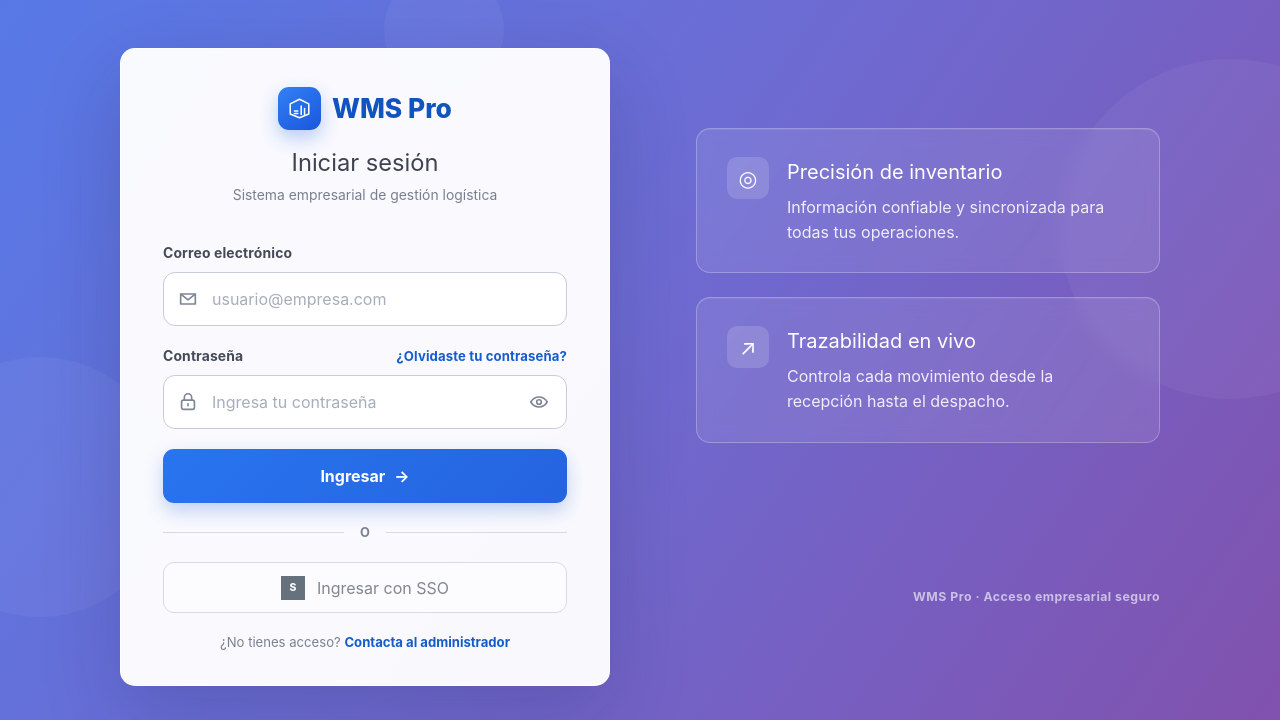
Test case: Login › shows a generic error when credentials are rejected
Type "persona@empresa.com" into the field labelled "Correo electrónico" at (365, 299), box [163,272,567,326]
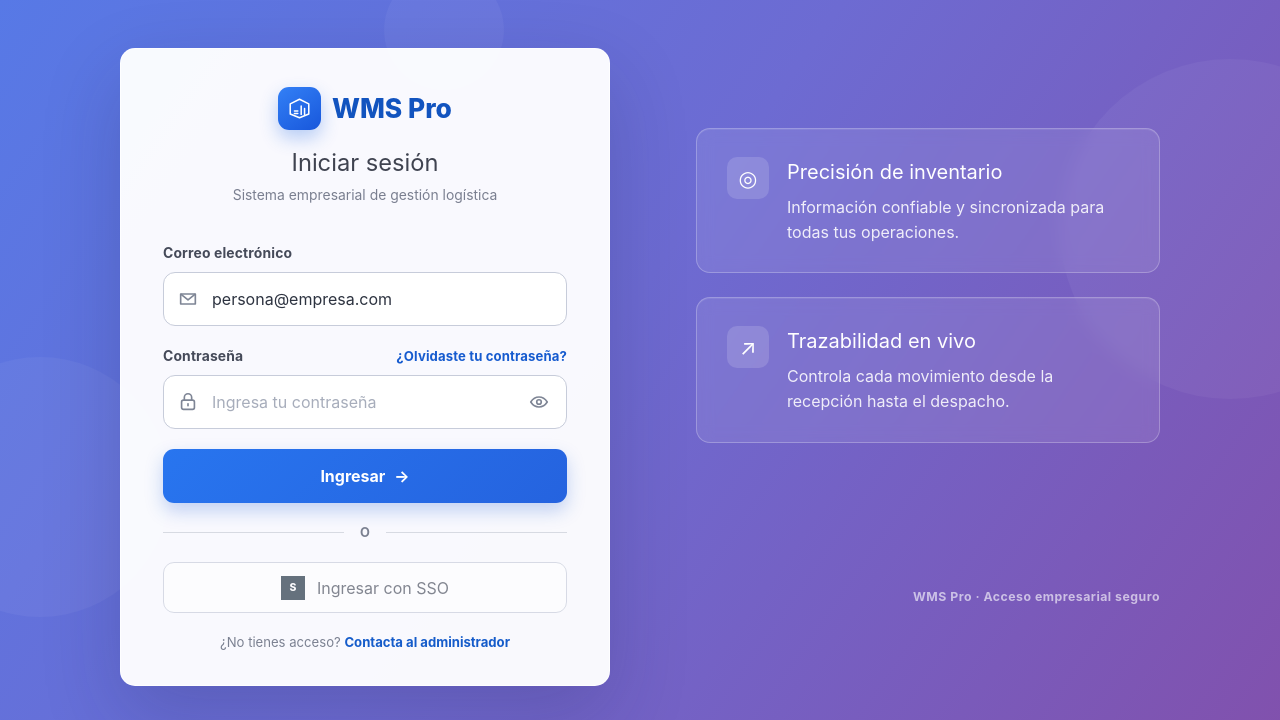
Type "incorrecta" into the password field labelled "Contraseña" at (365, 402), box [163,375,567,429]
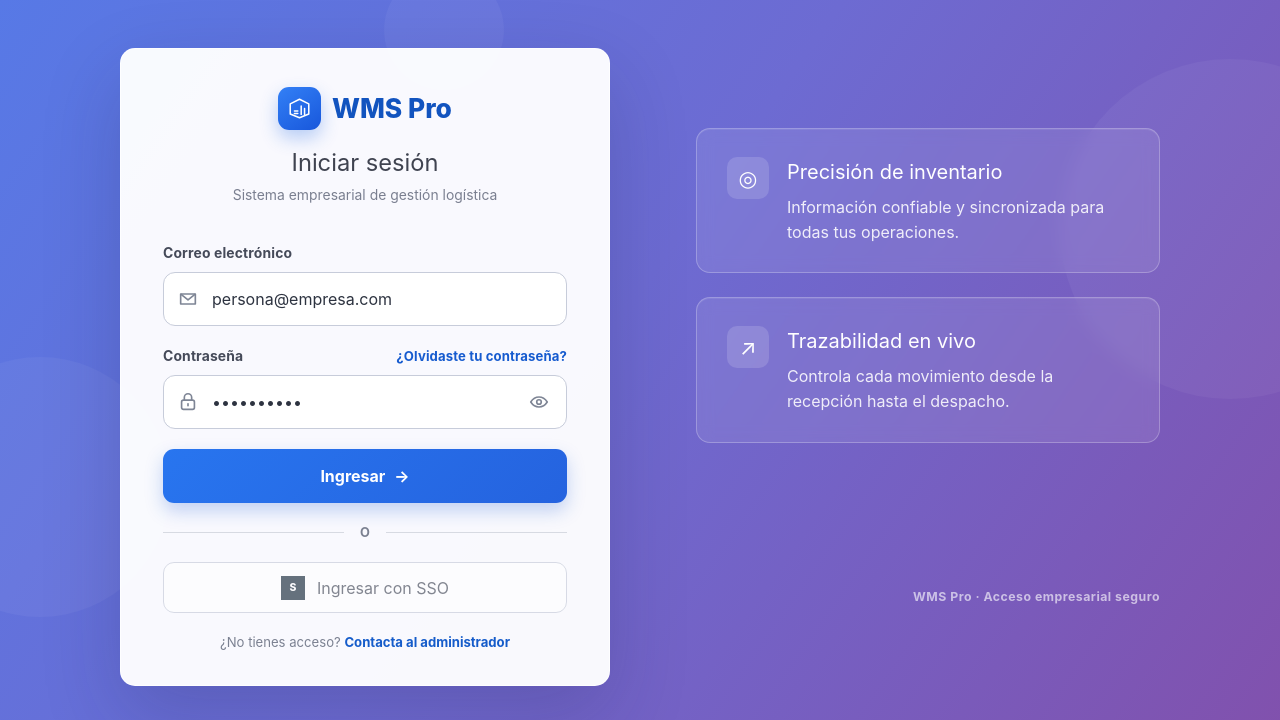
Click the button "Ingresar →" at (365, 476), box [163,449,567,503]
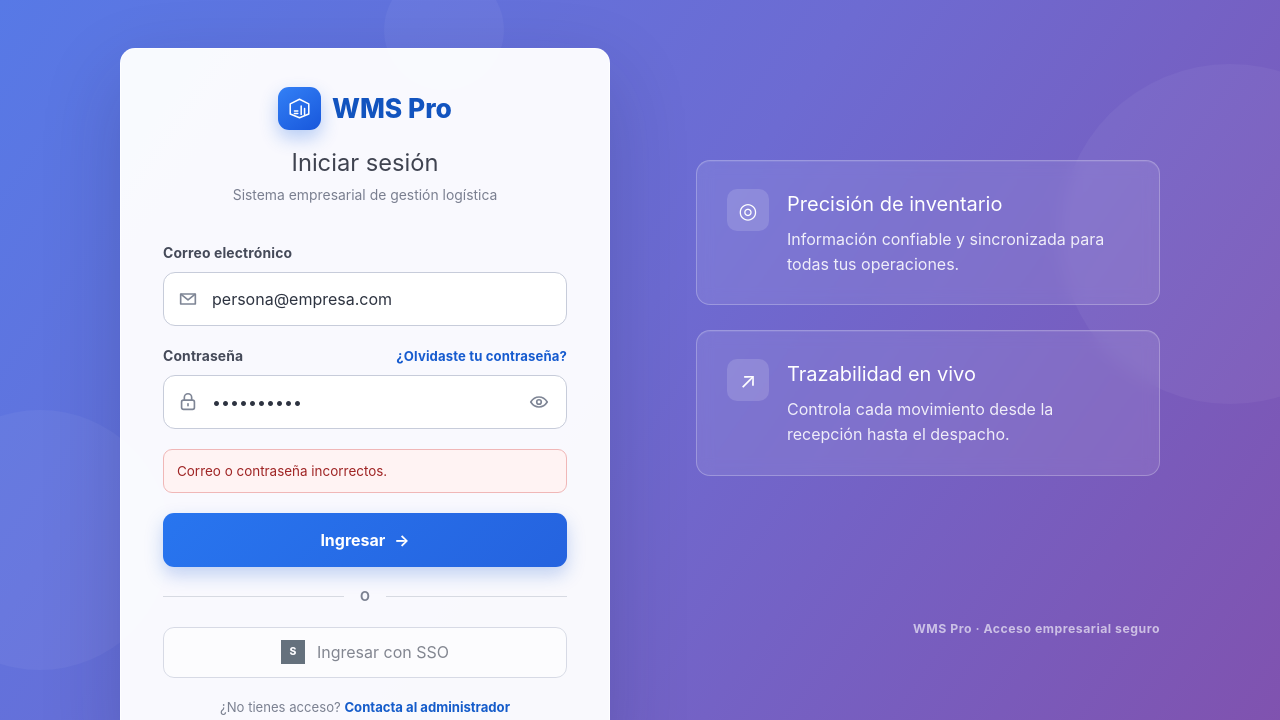
Check: the message reads "Correo o contraseña incorrectos.", box [177,463,387,479]
